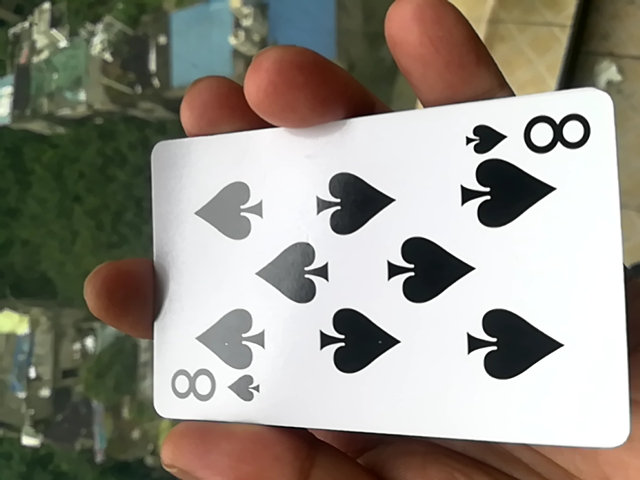ht 8: (131, 101, 624, 453)
